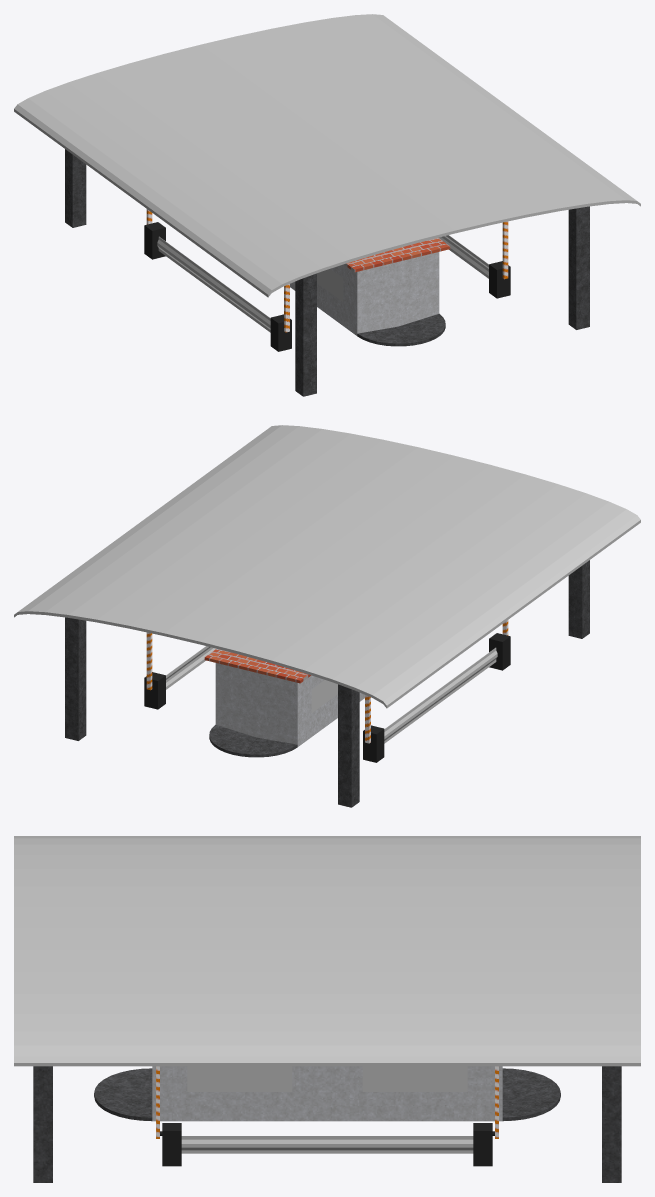
File: Checkpoint.fbx
The picture shows the model from 3 angles, top to bottom: view 1: azimuth 30°, elevation 25°; view 2: azimuth 150°, elevation 25°; view 3: azimuth 270°, elevation 25°; orthographic projection. The views are drawn at different scales.
Parts seen in each view (by area): view 1: Metal Bits, Barriers, Windows; view 2: Metal Bits, Barriers, Windows; view 3: Metal Bits, Barriers, Windows.
Part boxes in pixels (x1,y1,x2,y2): Metal Bits: (14, 14, 640, 332); Barriers: (65, 149, 589, 396); Windows: (317, 269, 343, 301); Metal Bits: (14, 425, 640, 743); Barriers: (65, 560, 589, 807); Windows: (311, 680, 337, 712); Metal Bits: (14, 836, 640, 1153); Barriers: (33, 1066, 621, 1182); Windows: (187, 1066, 467, 1091).
Bounding box in the file's own units: 27.3 × 9.58 × 32.24.
